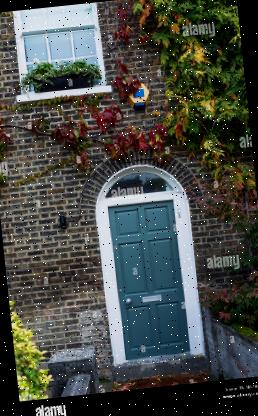door: (87, 155, 210, 372)
